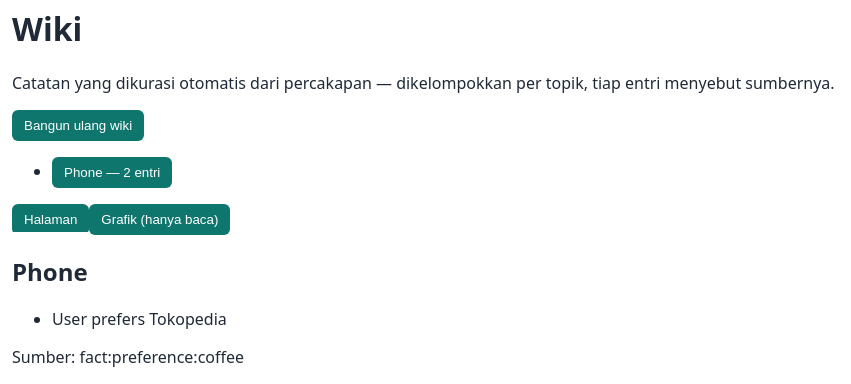
Scenario: WikiScreen › switches to the read-only graph tab and shows the topic nodes
Check: the list item "User prefers Tokopedia" is shown, box [52,308,227,330]
Click the tab "Grafik (hanya baca)".
click(160, 219)  # box [89,204,230,235]
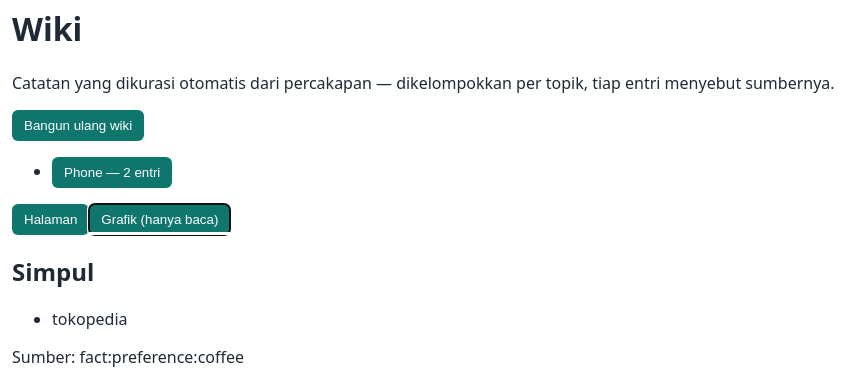
Check: the list item "tokopedia" is shown, box [52,308,128,330]
Check: the heading "Simpul" is shown, box [12,255,94,288]
